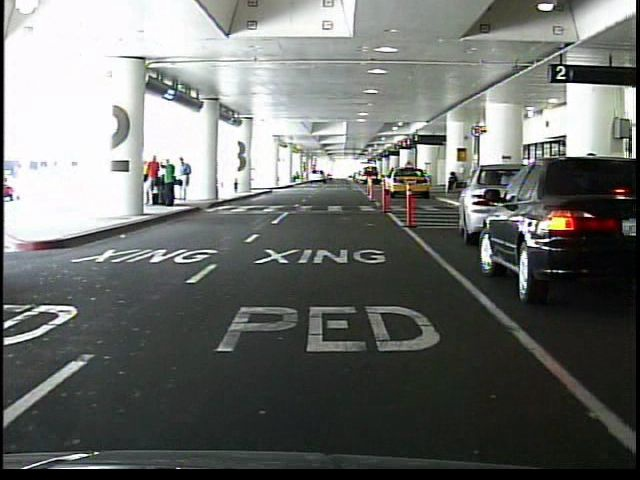person: (147, 152, 161, 207), (163, 158, 176, 207), (179, 157, 192, 202), (444, 171, 459, 195)
